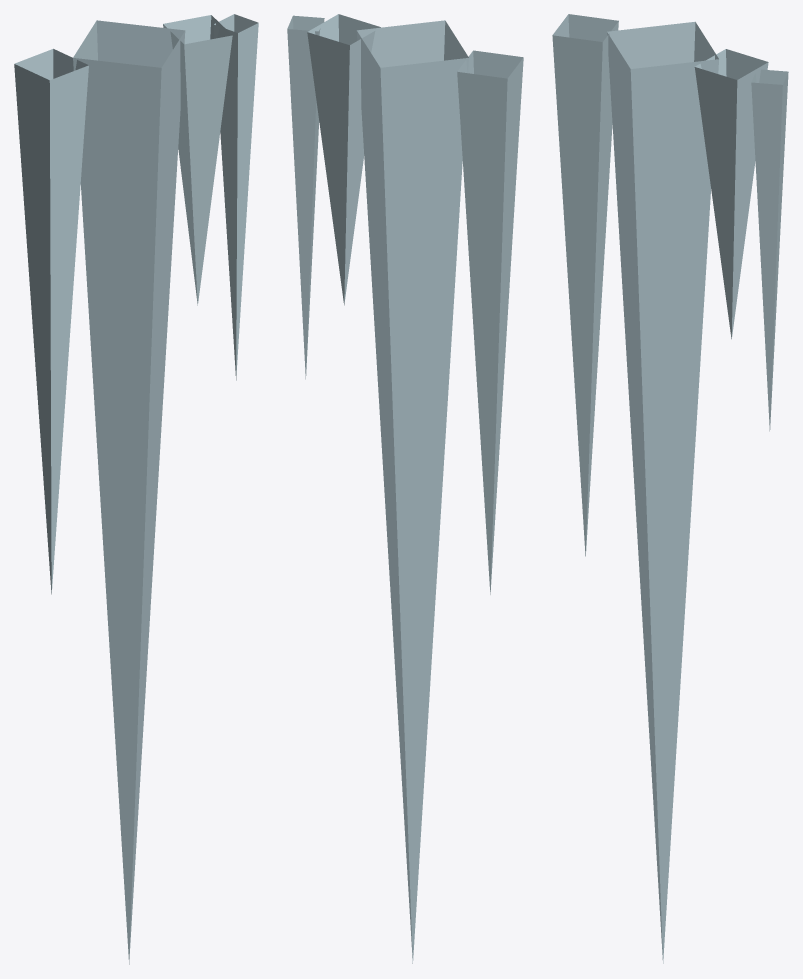
File: IceTaps_2.fbx
3 views of the same model, side by side, from view 1: azimuth 30°, elevation 25°; view 2: azimuth 150°, elevation 25°; view 3: azimuth 330°, elevation 25° (orthographic).
Parts seen in each view (by area): view 1: IceTaps_2; view 2: IceTaps_2; view 3: IceTaps_2.
Part boxes in pixels (x1,y1,x2,y2): IceTaps_2: [14, 14, 258, 964]; IceTaps_2: [287, 14, 523, 963]; IceTaps_2: [552, 14, 788, 963].
Size of the model in its own units: 0.5585 by 2.14 by 0.2733.
Materials: 1 (1 with a texture image).
